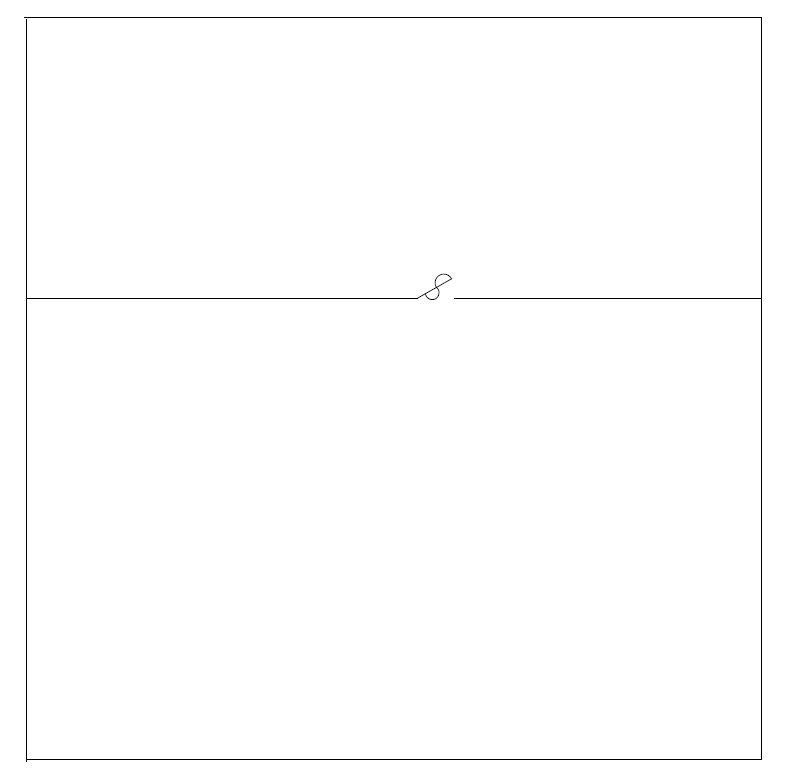SPD: (404, 260, 464, 315)
